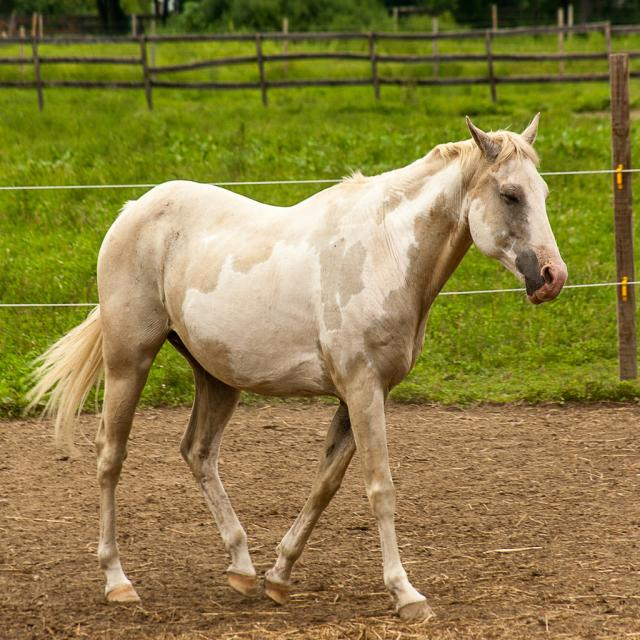Horse: (22, 112, 570, 628)
